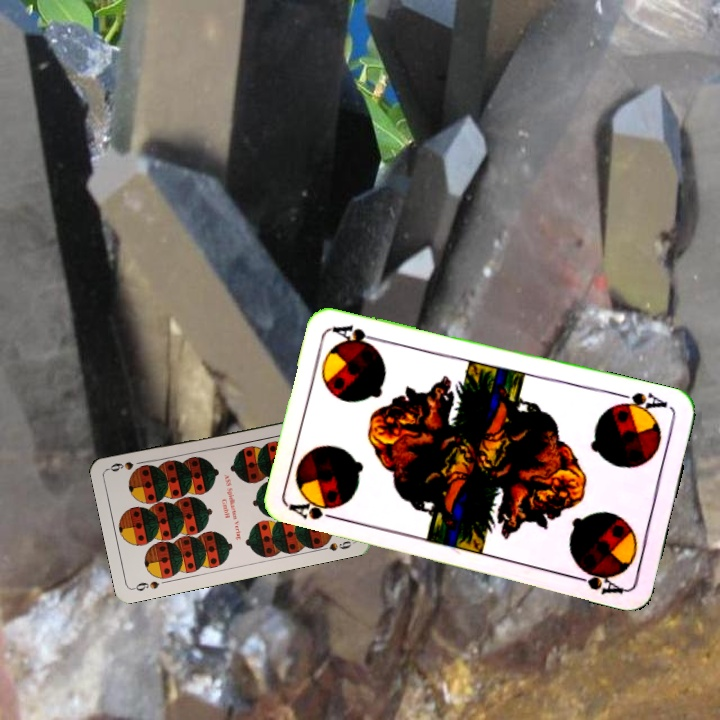S9: (129, 577, 162, 594)
SA: (611, 388, 670, 418), (287, 496, 345, 524)
